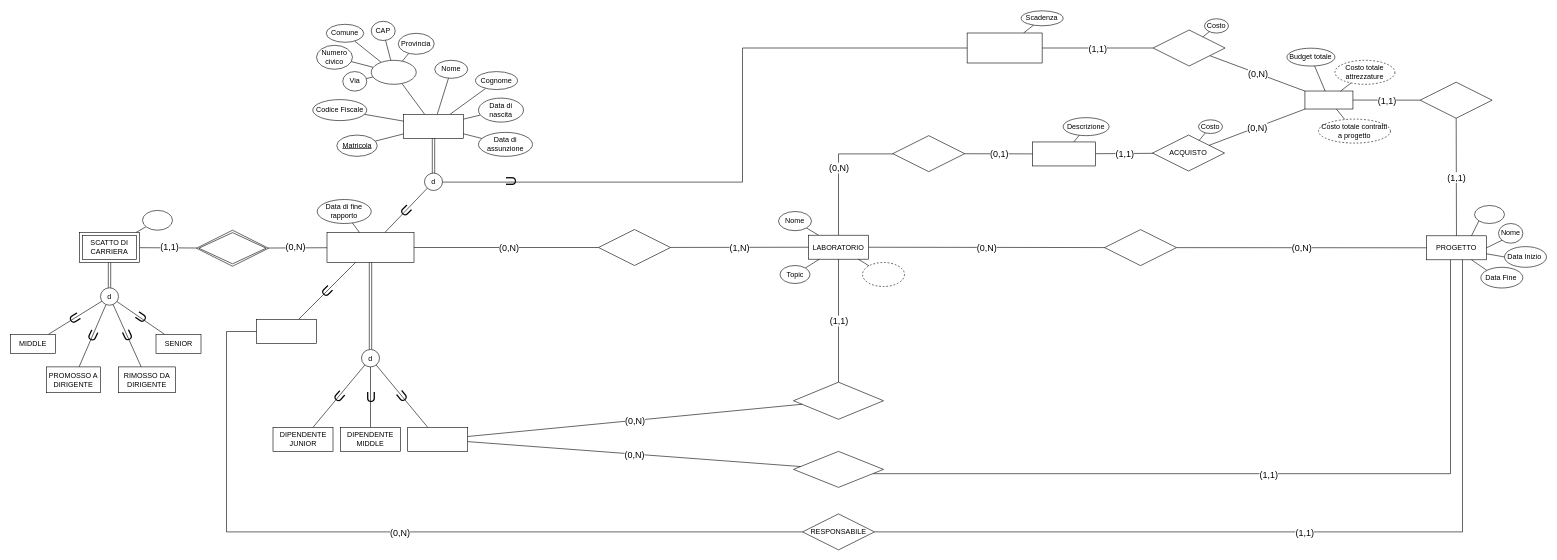
Image size: 1557x560. Some labels were removed from this diagram. The shapes that lost their labels are listed below. From the top down, each one's centre as x and y in pixels, then its label:
point 1004,47: DIPENDENTE CON CONTRATTO A PROGETTO
point 1189,47: INGAGGIARE
point 393,72: Indirizzo di residenza
point 1328,99: FONDI
point 1456,100: FINANZIAMENTO
point 433,126: DIPENDENTE
point 928,153: POSSEDERE
point 1064,153: ATTREZZATURA
point 157,220: Data
point 1489,214: CUP
point 232,248: PROGRESSIONE
point 370,247: DIPENDENTE CON CONTRATTO A TEMPO INDETERMINATO
point 634,247: AFFERIRE
point 1140,247: LAVORARE
point 883,274: Numero di afferenti
point 286,331: DIRIGENTE
point 838,400: RESPONSABILE SCIENTIFICO
point 437,439: DIPENDENTE SENIOR
point 838,469: REFERENTE SCIENTIFICO
